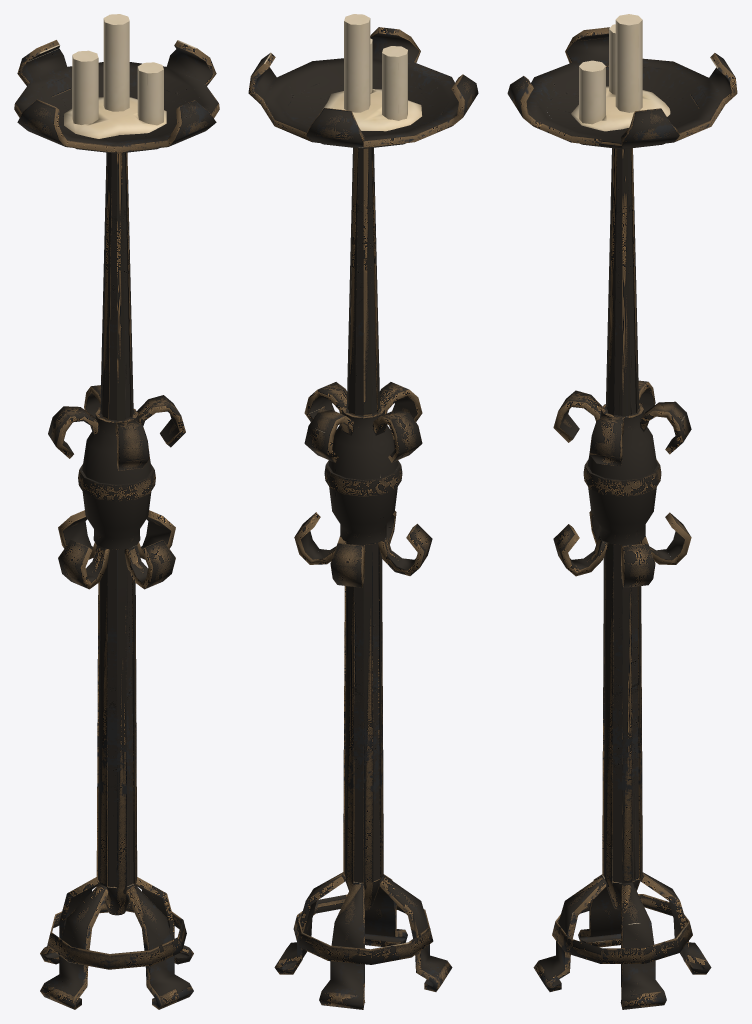
File: Medieval_Standing_Lamp.fbx
3 renders of one model, left to right at view 1: azimuth 30°, elevation 25°; view 2: azimuth 150°, elevation 25°; view 3: azimuth 270°, elevation 25°, orthographic.
Visible parts, largest first — view 1: Medieval_Standing_Lamp; view 2: Medieval_Standing_Lamp; view 3: Medieval_Standing_Lamp.
Part boxes in pixels (x1=…): Medieval_Standing_Lamp: x1=14, y1=14, x2=219, y2=1009; Medieval_Standing_Lamp: x1=248, y1=14, x2=478, y2=1009; Medieval_Standing_Lamp: x1=507, y1=14, x2=737, y2=1009.
Size of the model in its own units: 0.3398 by 1.56 by 0.3398.
